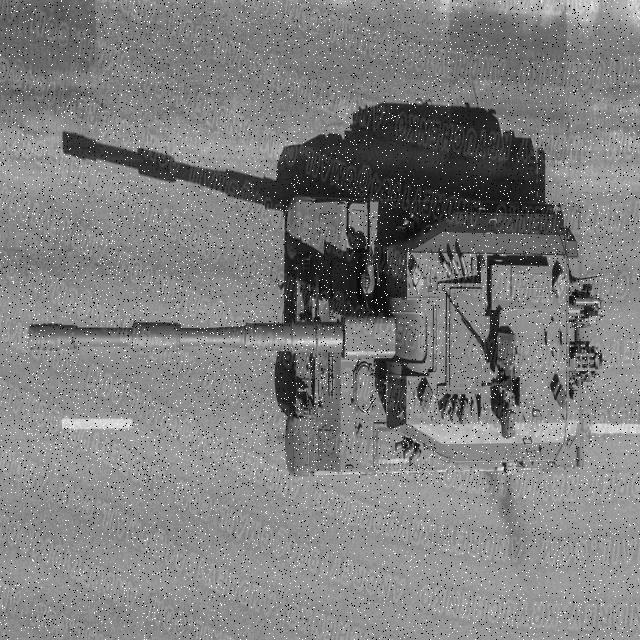MIL_MBT: (22, 180, 610, 486)
